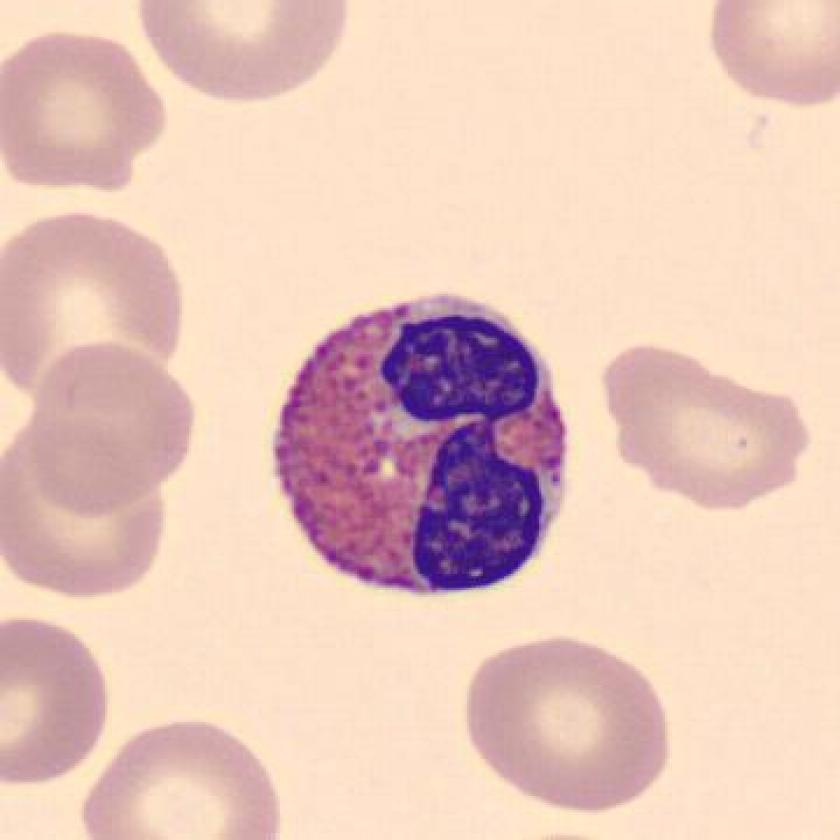eosinophil: (263, 281, 585, 607)
